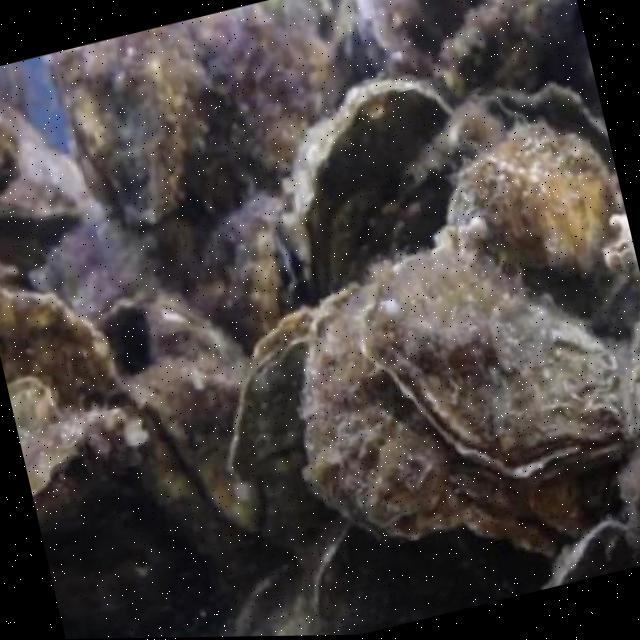Oyster-Closed: (227, 313, 311, 495), (25, 407, 127, 504)
Oyster-Indeterminate: (47, 0, 414, 265), (301, 309, 466, 540), (288, 77, 458, 299), (20, 206, 210, 363), (434, 429, 608, 588), (449, 123, 612, 284), (284, 0, 447, 132), (0, 288, 133, 419), (203, 195, 307, 353), (0, 155, 106, 272), (127, 288, 242, 364), (6, 374, 60, 448), (0, 100, 24, 195)
Oyster-Open: (342, 250, 628, 468), (408, 0, 603, 153), (122, 357, 262, 537), (529, 501, 640, 589), (630, 319, 640, 421)
